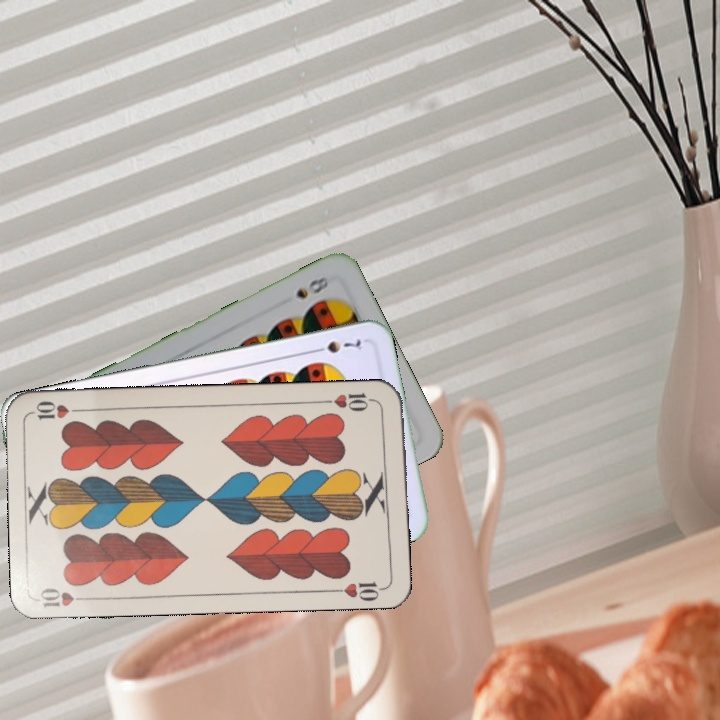H10: (320, 388, 379, 414), (36, 584, 95, 610)
S7: (308, 335, 364, 356)
S8: (291, 272, 331, 301)
